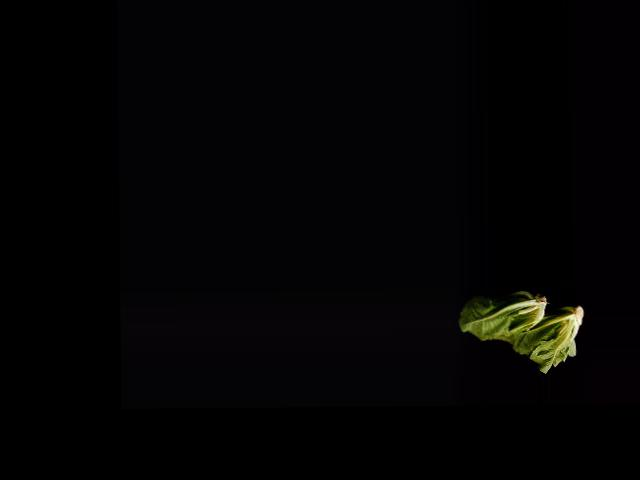lettuce: (496, 296, 584, 372)
